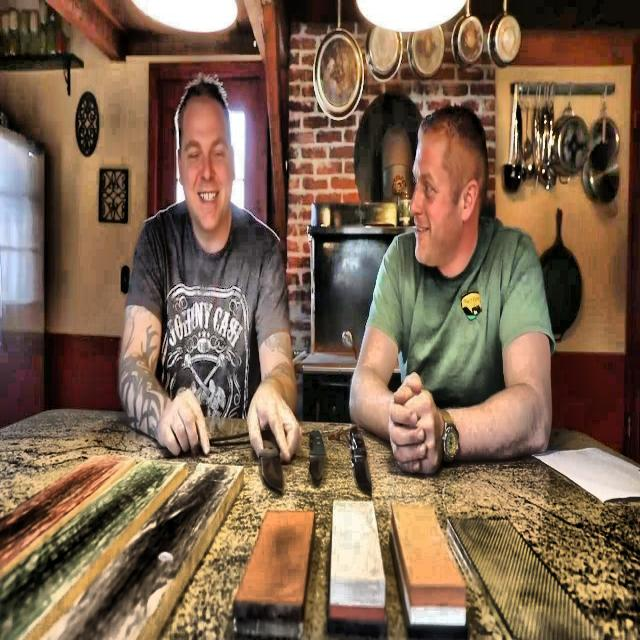knife: (349, 426, 373, 501), (259, 428, 285, 496), (308, 430, 325, 482)
